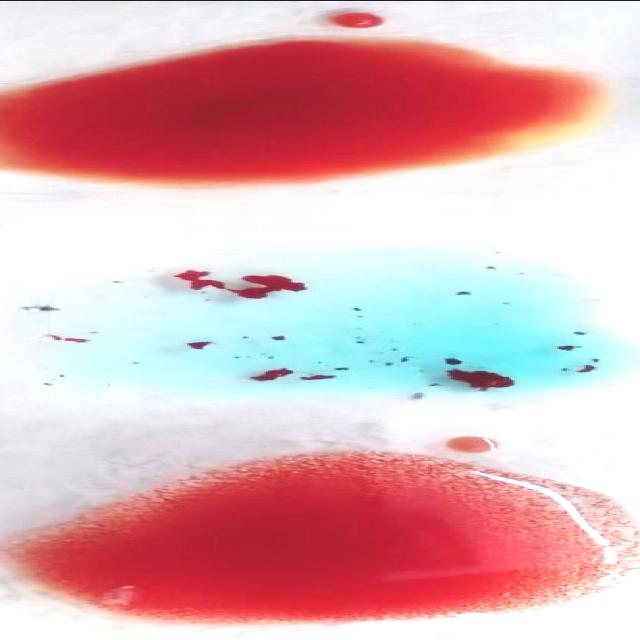A: (9, 262, 626, 401)
D: (7, 451, 628, 624)
